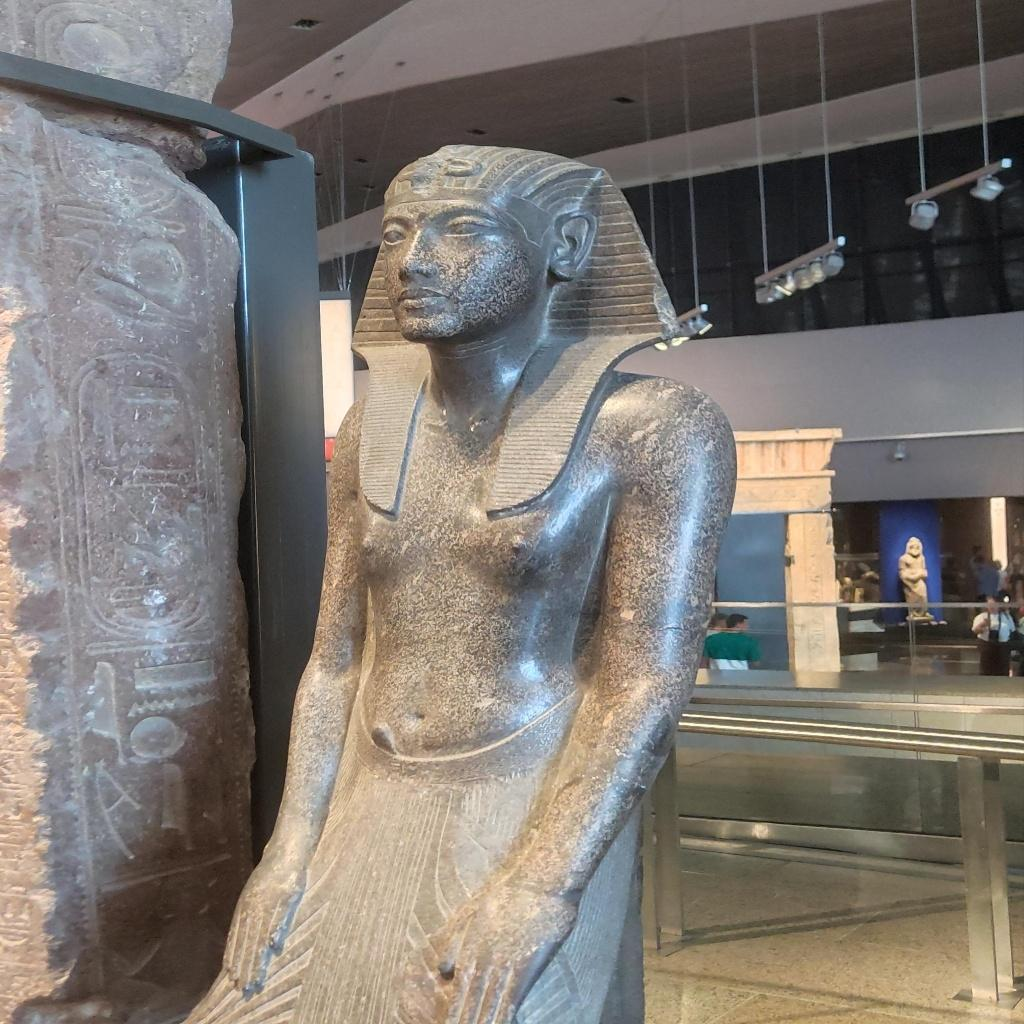Granite Statue of Tutankhamun: (182, 140, 742, 1020)
